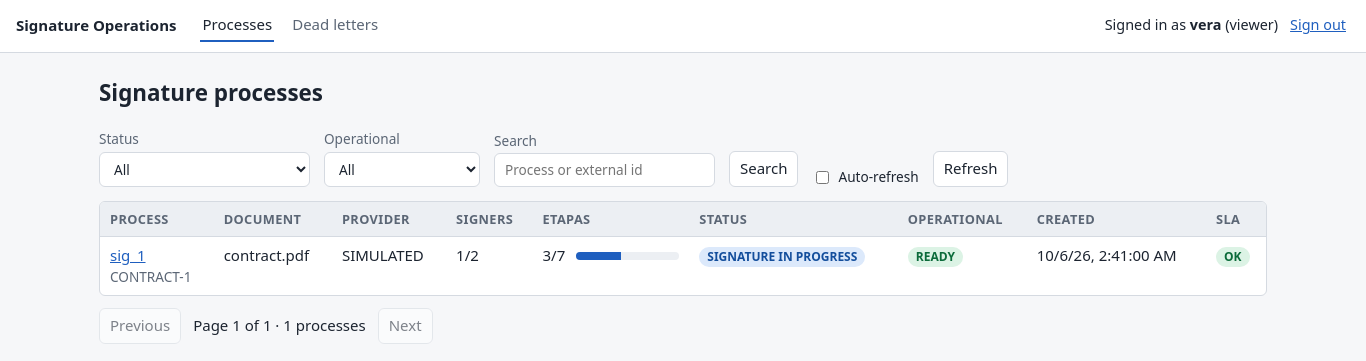
Scenario: sign-in with authorization code and PKCE › sign out clears the session and asks for sign-in again
The width and height of the screenshot is (1366, 361).
Expected: the table is shown, [100, 202, 1266, 295]
Click the button "Sign out" at (1318, 26), box [1286, 13, 1350, 38]
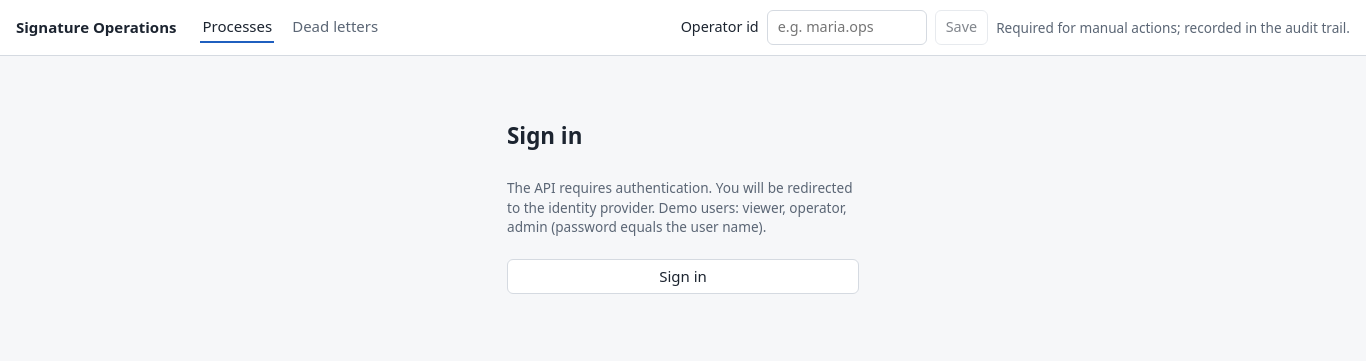
Expected: the heading "Sign in" is shown, [507, 120, 582, 151]
